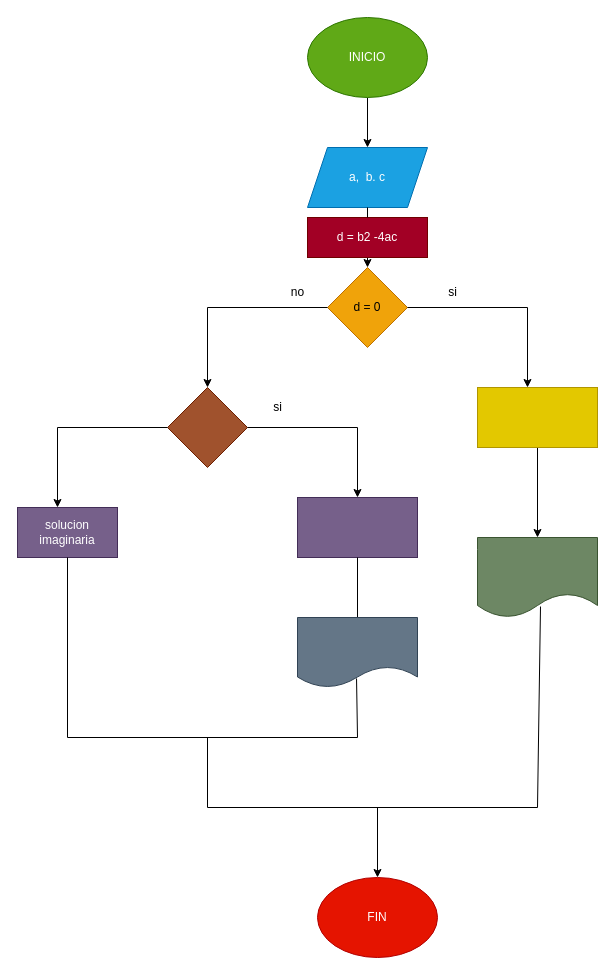
This 615x975 diagram has some shape labels left out. The box of each missing label's shape, as (x1, y1, x2, y2) in pixels:
d == 0: (166, 386, 248, 468)
X1 = (-b+ SQR) /2A X2 = (-b + SQR(d)) /2a: (296, 496, 418, 558)
X1 = -b /2a X2 = X1: (476, 536, 598, 618)
